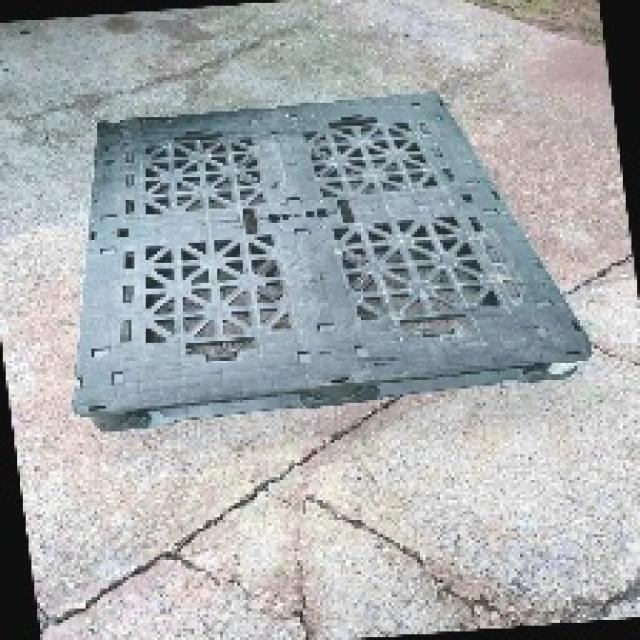igps: (65, 86, 601, 439)
